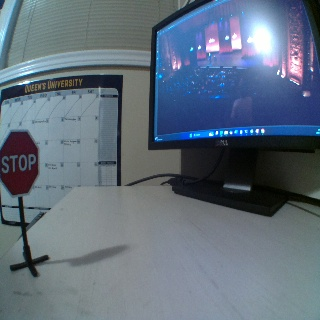sign_stop: (0, 129, 38, 194)
